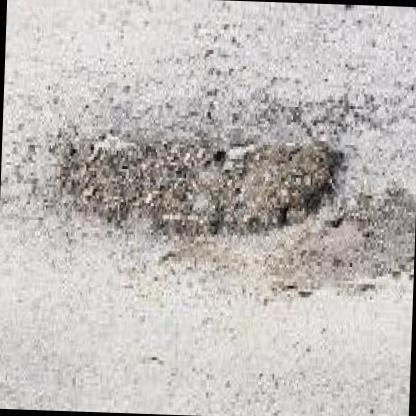pothole: (55, 129, 347, 252)
